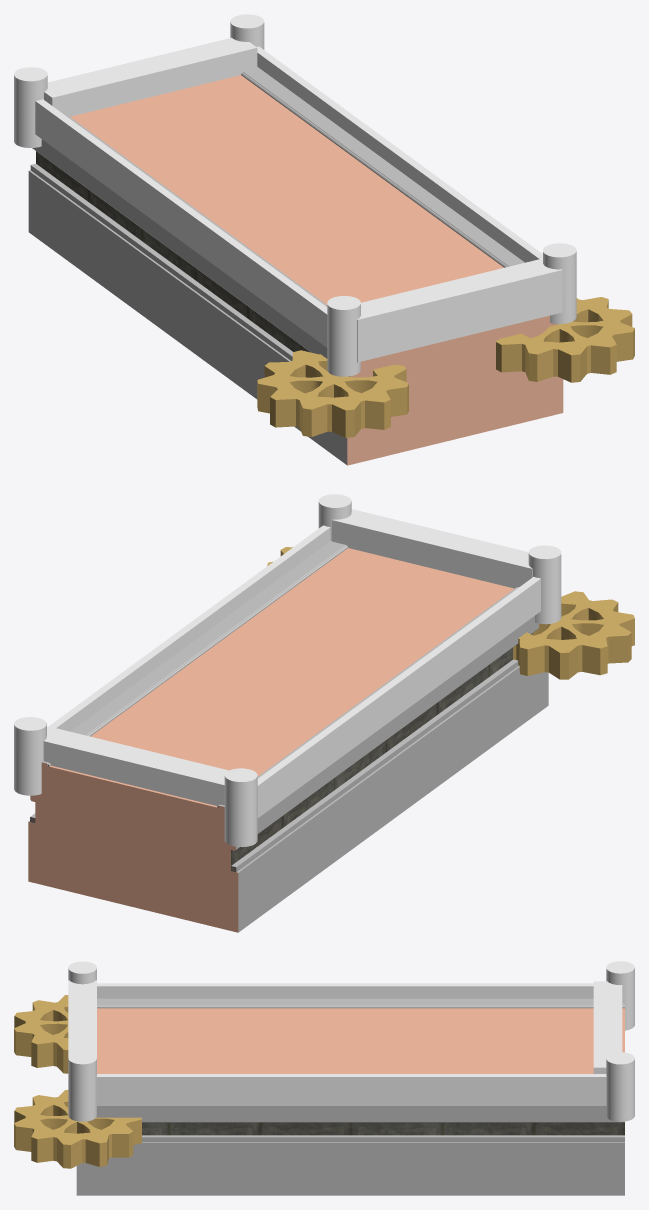
The model's file is Platform.fbx.
The picture shows the model from 3 angles, top to bottom: view 1: azimuth 30°, elevation 25°; view 2: azimuth 150°, elevation 25°; view 3: azimuth 270°, elevation 25°; orthographic projection. The views are drawn at different scales.
Visible parts, largest first — view 1: Platform, Cube__1_, ExitTrigger, Cog6Spoke011, EnterTrigger, Cog6Spoke011__1_, Cube, Platform__Hidden_, Cylinder, Cylinder__2_, Cylinder__1_, Cylinder__3_; view 2: Platform, Cube__1_, ExitTrigger, Cog6Spoke011, EnterTrigger, Cube, Platform__Hidden_, Cylinder__2_, Cylinder__3_, Cylinder, Cylinder__1_; view 3: Platform, Cube, Cube__1_, Cog6Spoke011__1_, Platform__Hidden_, Cog6Spoke011, EnterTrigger, ExitTrigger, Cylinder__1_, Cylinder__3_, Cylinder__2_, Cylinder.
Part boxes in pixels (<box>): Platform: <box>28,67,563,465</box>; Cube__1_: <box>35,99,327,347</box>; ExitTrigger: <box>357,258,562,362</box>; Cog6Spoke011: <box>257,350,408,437</box>; EnterTrigger: <box>44,37,257,116</box>; Cog6Spoke011__1_: <box>496,297,634,382</box>; Cube: <box>257,46,542,262</box>; Platform__Hidden_: <box>30,72,507,360</box>; Cylinder: <box>327,296,360,376</box>; Cylinder__2_: <box>14,67,47,147</box>; Cylinder__1_: <box>543,243,576,324</box>; Cylinder__3_: <box>230,14,264,49</box>; Platform: <box>28,541,548,932</box>; Cube__1_: <box>257,577,540,817</box>; ExitTrigger: <box>332,509,532,588</box>; Cog6Spoke011: <box>513,591,634,679</box>; EnterTrigger: <box>43,727,228,805</box>; Cube: <box>47,525,330,731</box>; Platform__Hidden_: <box>30,545,518,872</box>; Cylinder__2_: <box>224,768,257,847</box>; Cylinder__3_: <box>14,717,46,795</box>; Cylinder: <box>528,545,561,624</box>; Cylinder__1_: <box>318,494,351,540</box>; Platform: <box>76,998,624,1195</box>; Cube: <box>96,1074,606,1105</box>; Cube__1_: <box>97,983,593,998</box>; Cog6Spoke011__1_: <box>14,1090,141,1168</box>; Platform__Hidden_: <box>97,1005,624,1141</box>; Cog6Spoke011: <box>14,995,68,1073</box>; EnterTrigger: <box>593,981,622,1073</box>; ExitTrigger: <box>68,980,96,1057</box>; Cylinder__1_: <box>68,1052,96,1121</box>; Cylinder__3_: <box>606,1052,634,1121</box>; Cylinder__2_: <box>606,961,634,1030</box>; Cylinder: <box>68,961,96,984</box>.
Bounding box in the file's own units: 1235 × 527 × 2156.
